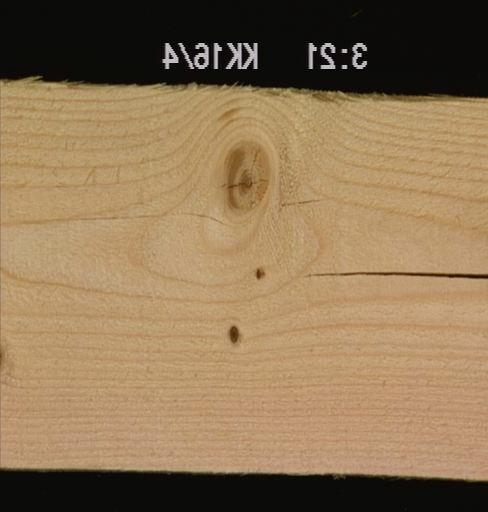small_knot: (227, 323, 240, 345), (253, 263, 267, 281)
sound_knot: (224, 140, 271, 212)
split: (300, 268, 486, 281)
wave: (247, 85, 486, 116)
